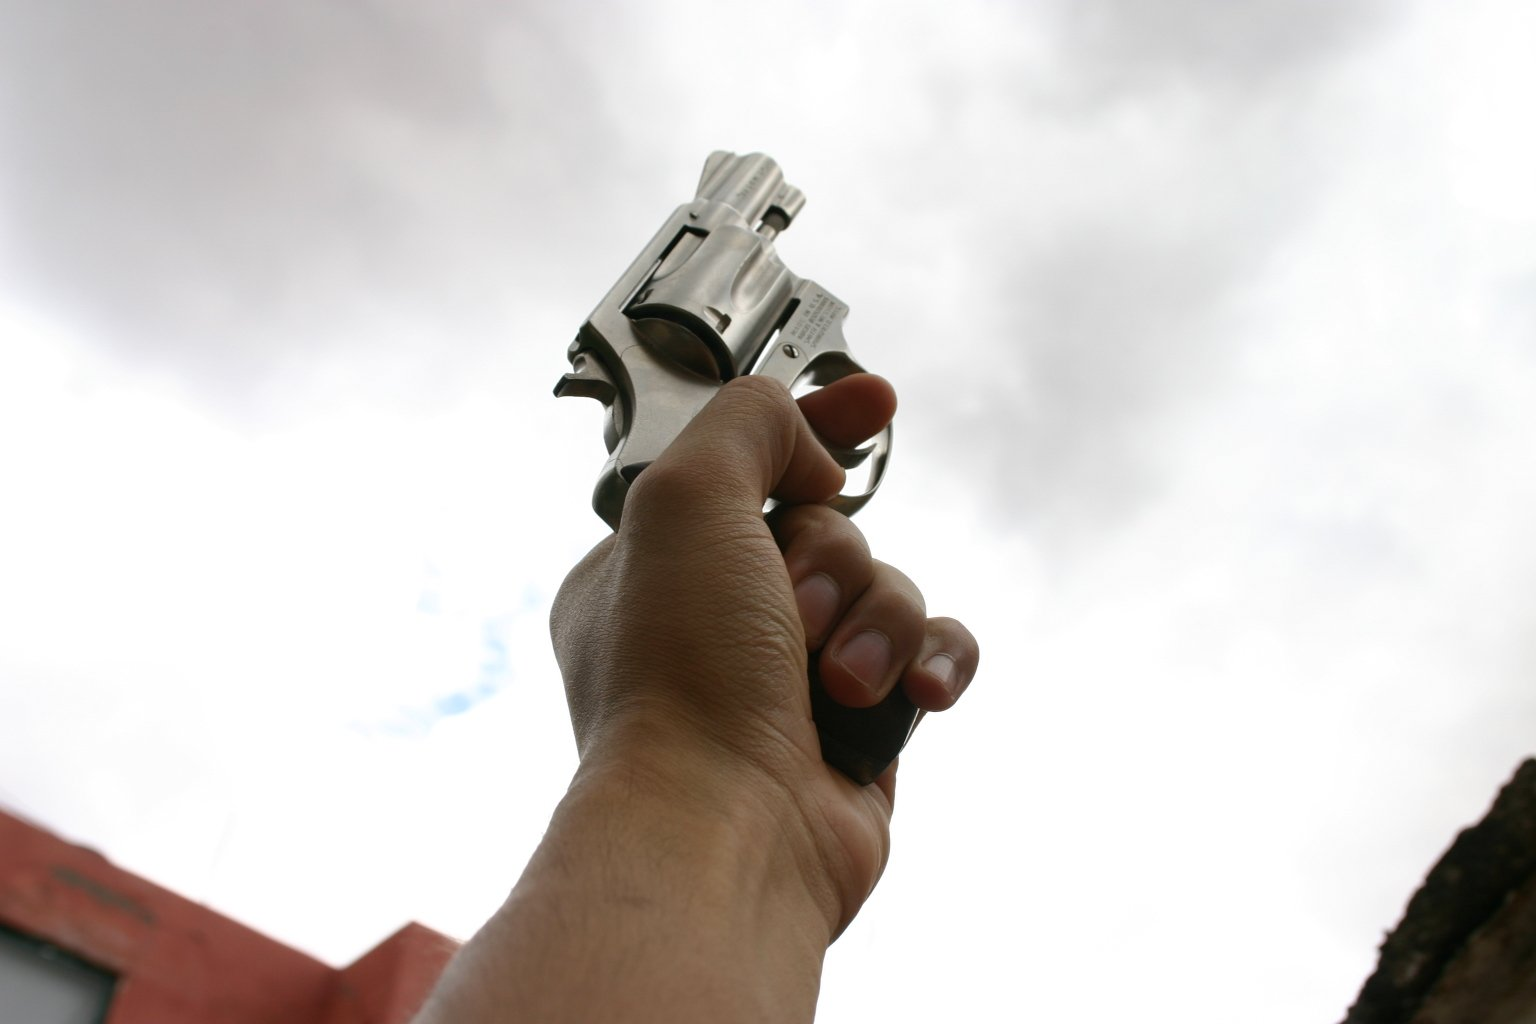gun: (549, 152, 901, 539)
